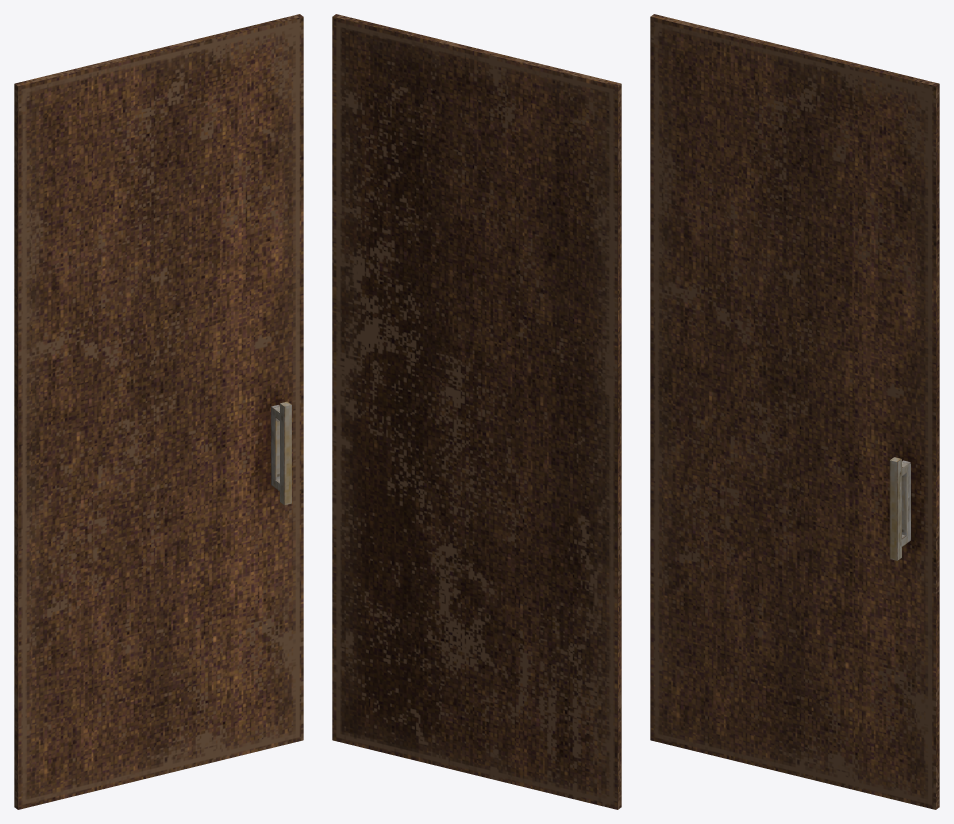
File: Wardrobe_door_Right.fbx
The picture shows the model from 3 angles, left to right: view 1: azimuth 30°, elevation 25°; view 2: azimuth 150°, elevation 25°; view 3: azimuth 330°, elevation 25°; orthographic projection.
Visible parts, largest first — view 1: Wardrobe_door_Right; view 2: Wardrobe_door_Right; view 3: Wardrobe_door_Right.
Part boxes in pixels (x1,y1,x2,y2): Wardrobe_door_Right: (14,14,303,809); Wardrobe_door_Right: (332,14,621,809); Wardrobe_door_Right: (650,14,939,809).
Size of the model in its own units: 4.69 by 45.09 by 109.
